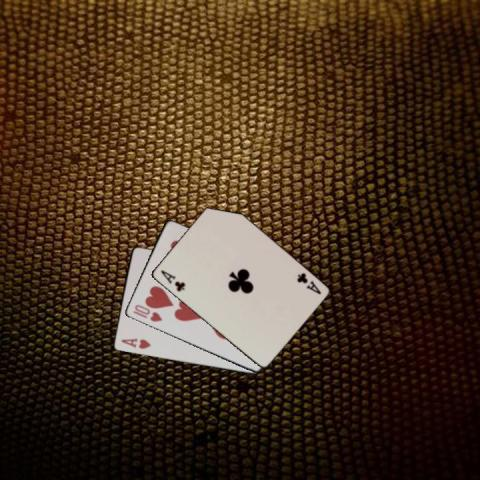10h: (130, 301, 163, 324)
Ac: (157, 266, 187, 292), (293, 270, 322, 295)
Ah: (118, 335, 152, 351)
